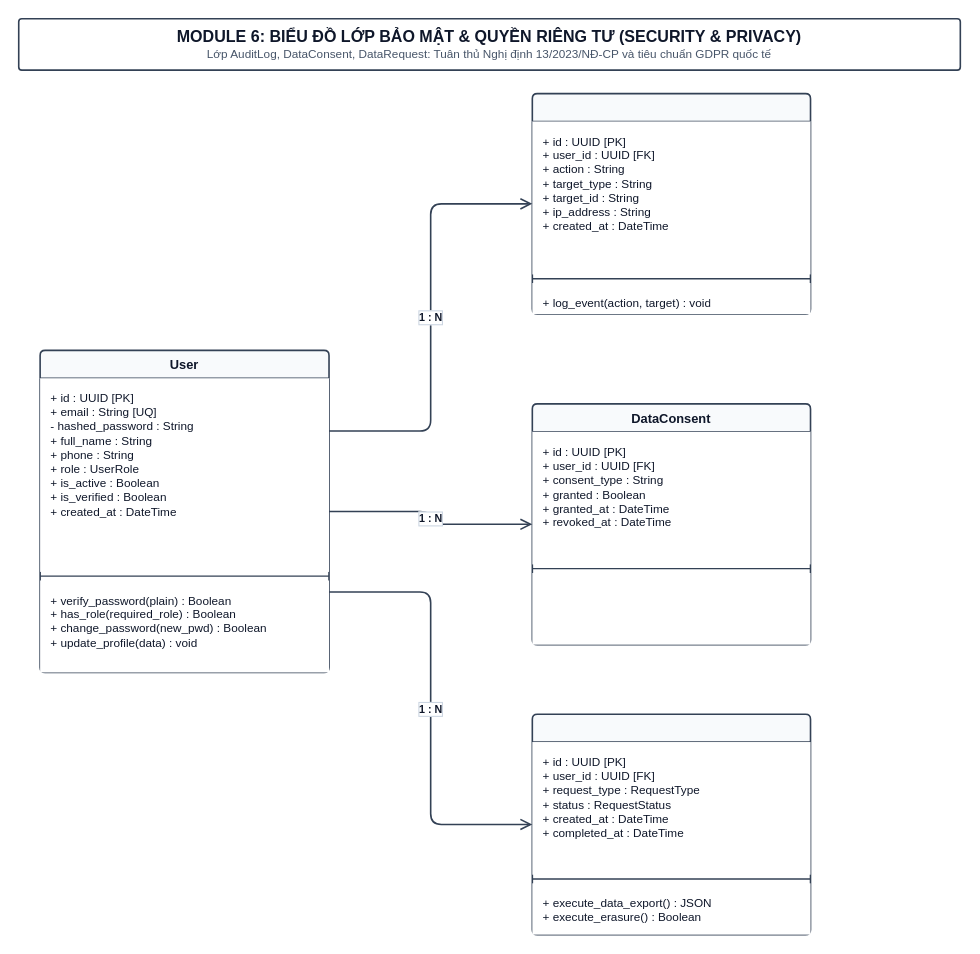
Some shapes in this 980 by 954 pixel diagram are drawn without their labels. The shapes that lost their labels are listed below. From the top down, each one's box as (x1, y1, x2, y2) in pixels, then its label:
(531, 92, 811, 314): AuditLog
(532, 572, 810, 644): + grant_consent() : void + revoke_consent() : void + is_active() : Boolean
(531, 713, 811, 935): DataRequest
